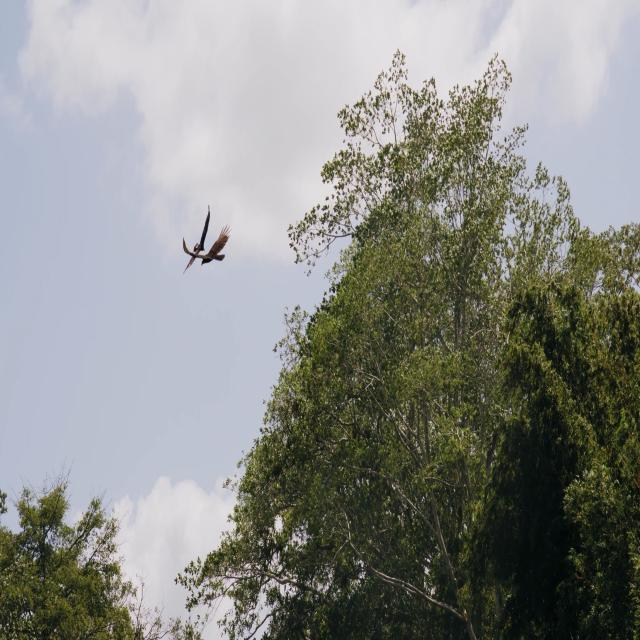bird: (182, 222, 233, 268), (182, 203, 211, 275)
